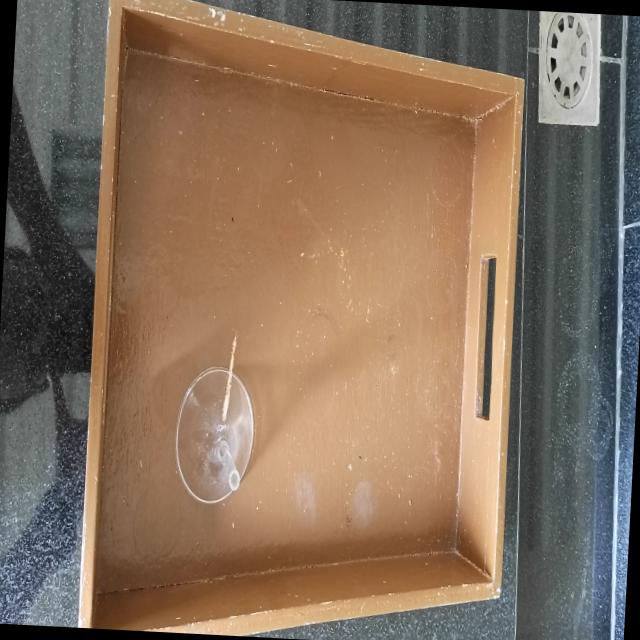funnel: (170, 343, 260, 527)
